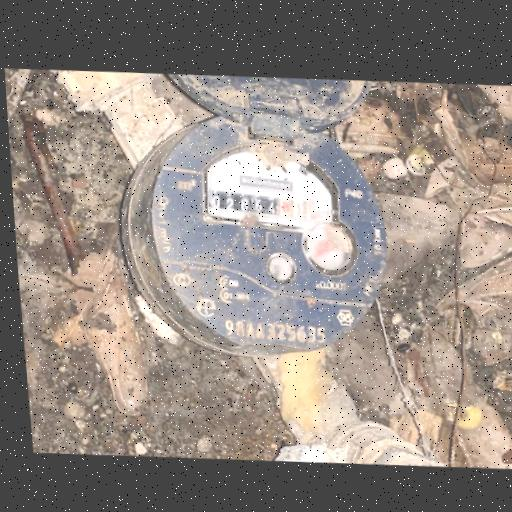0: (237, 193, 250, 212), (211, 191, 222, 210)
1: (292, 199, 304, 218)
2: (222, 191, 237, 212)
4: (264, 195, 279, 216)
6: (251, 194, 265, 214)
8: (280, 198, 292, 217)
border_water_meter_number: (206, 185, 331, 226)
